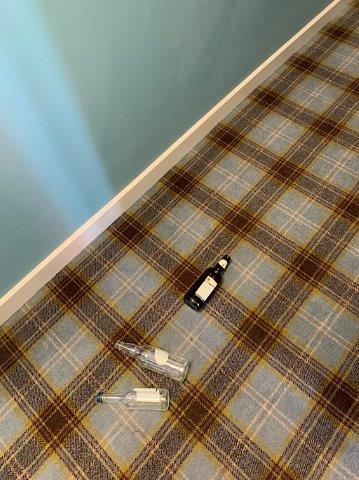botolkaca: (116, 342, 188, 381), (185, 256, 231, 309), (97, 388, 169, 410)
